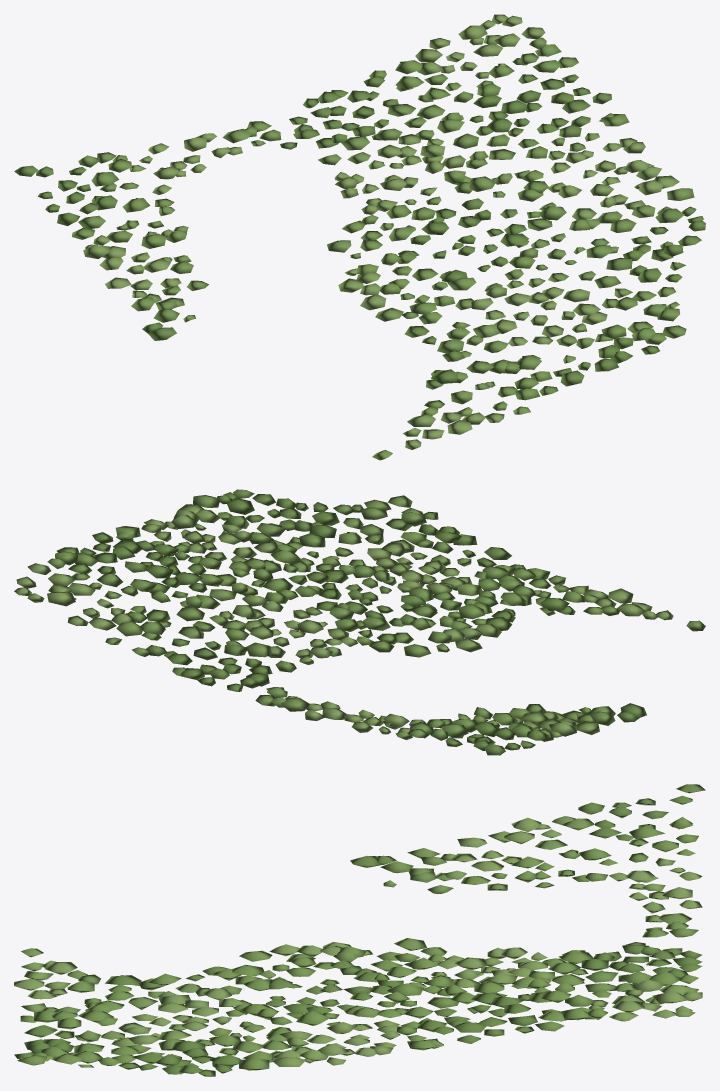
File: canopy-1--4-4.glb
The picture shows the model from 3 angles, top to bottom: view 1: azimuth 30°, elevation 25°; view 2: azimuth 150°, elevation 25°; view 3: azimuth 270°, elevation 25°; orthographic projection. The views are drawn at different scales.
Size of the model in its own units: 512 by 145 by 515.
1 material, 1 textured.
